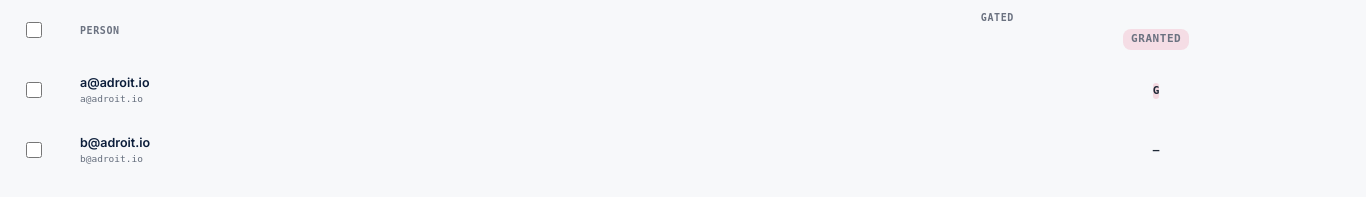
AccessGrid (ADR-220/222) › bulk checkbox header drives row selection
Click the checkbox named "select all" at (34, 30), box [26, 22, 42, 38]
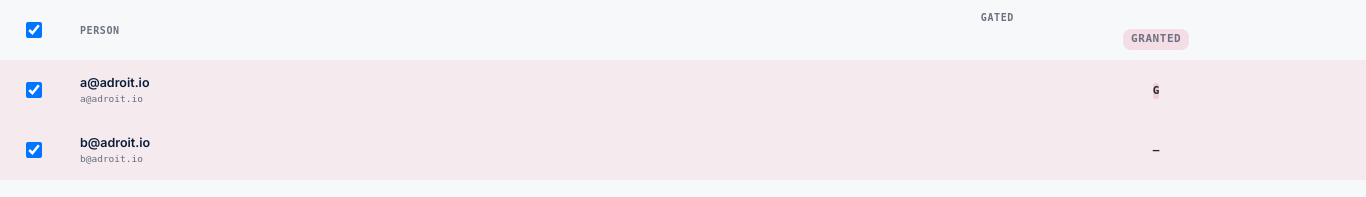
Now the checkbox named "select all" is checked, box [26, 22, 42, 38]
Now the checkbox named "a@adroit" is checked, box [26, 82, 42, 98]
Now the checkbox named "b@adroit" is checked, box [26, 142, 42, 158]
